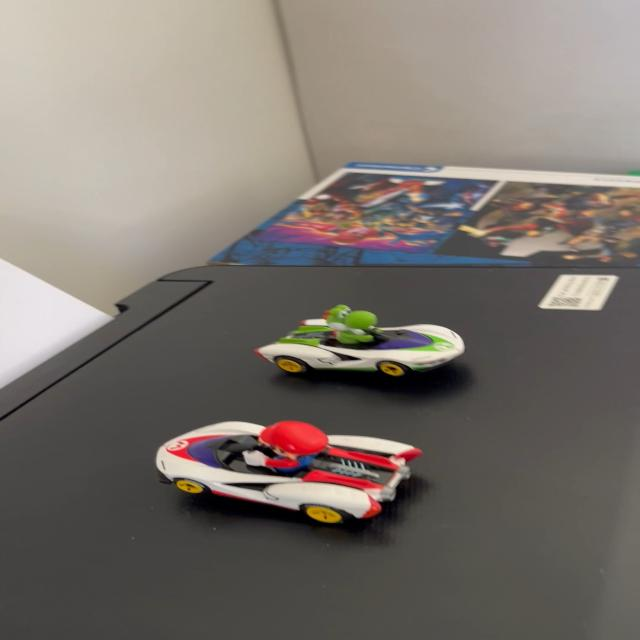mario: (140, 412, 438, 530)
yoshi: (246, 301, 479, 387)
